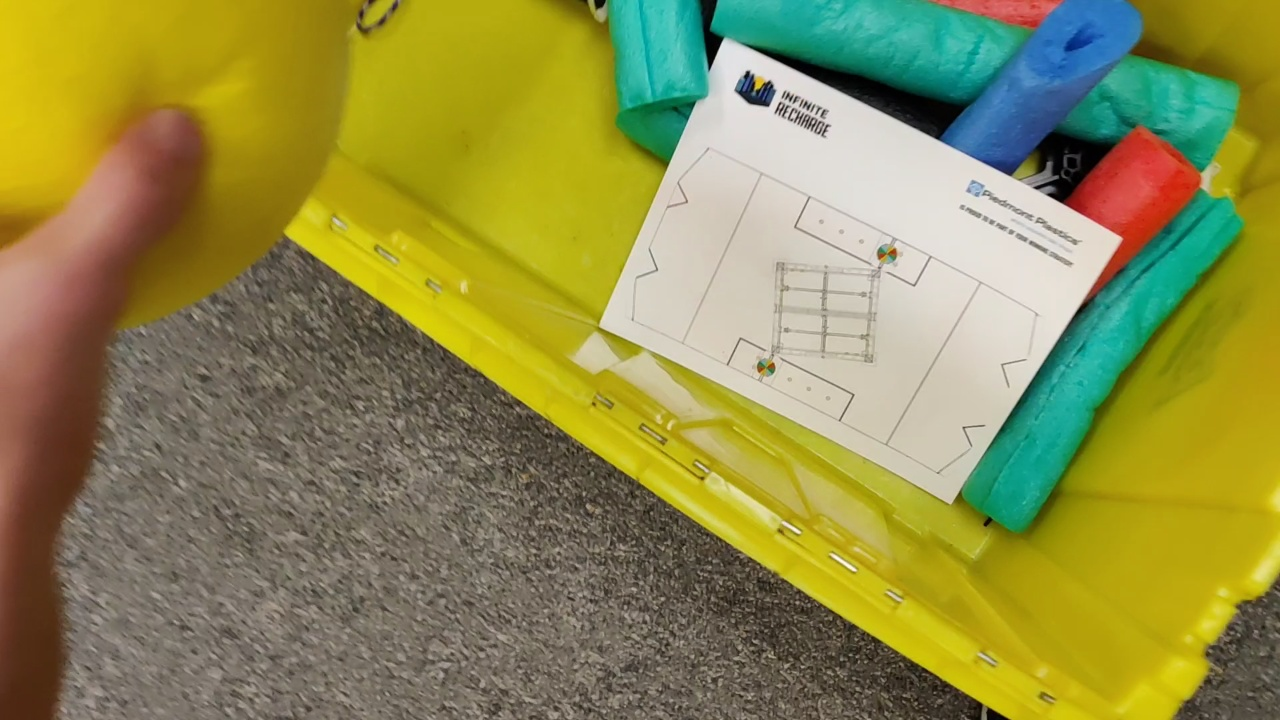Ball: (3, 7, 348, 328)
